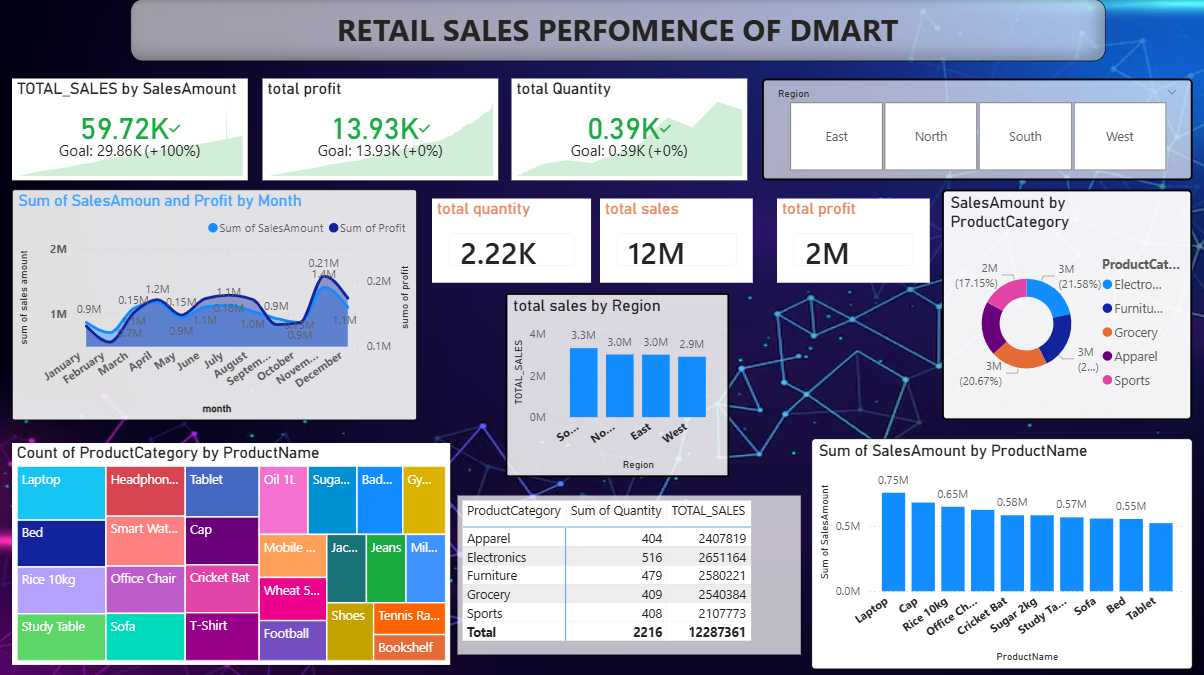

Layout of this report page (visuals, bound fields, positions):
{"tool":"powerbi","page":{"name":"Page 1","canvas":[1280,720],"ordinal":0},"visuals":[{"type":"textbox","box":[141.7,0,1033.7,66.1],"z":0},{"type":"kpi","title":"TOTAL_SALES  by SalesAmount","fields":{"Indicator":["project data Retail_Sales_Performance.TOTAL_SALES"],"TrendLine":["project data Retail_Sales_Performance.SalesAmount"],"Goal":["project data Retail_Sales_Performance.target_of_sales"]},"box":[15.9,84.3,249.7,108.2],"z":1000},{"type":"kpi","title":"total profit","fields":{"Indicator":["project data Retail_Sales_Performance.TOTAL_PROFIT"],"TrendLine":["project data Retail_Sales_Performance.Profit"],"Goal":["project data Retail_Sales_Performance.TOTAL_PROFIT"]},"box":[281.5,84.3,249.7,108.2],"z":2000},{"type":"kpi","title":"total Quantity","fields":{"Indicator":["project data Retail_Sales_Performance.TOTAL_QUANTITY"],"TrendLine":["project data Retail_Sales_Performance.Quantity"],"Goal":["project data Retail_Sales_Performance.TOTAL_QUANTITY"]},"box":[545.6,84.3,249.7,108.2],"z":3000},{"type":"areaChart","title":"Sum of SalesAmoun and Profit by Month","fields":{"Category":["project data Retail_Sales_Performance.OrderDate.Variation.Date Hierarchy.Month"],"Y2":["Sum(project data Retail_Sales_Performance.Profit)"],"Y":["Sum(project data Retail_Sales_Performance.SalesAmount)"]},"box":[15.9,202,429.5,245],"z":4000},{"type":"slicer","fields":{"Values":["project data Retail_Sales_Performance.Region"]},"box":[811.2,84.3,456.5,108.2],"z":5000},{"type":"cardVisual","title":"total sales","fields":{"Data":["project data Retail_Sales_Performance.TOTAL_SALES"]},"box":[639.4,211.6,162.2,89.1],"z":6000},{"type":"cardVisual","title":"total profit","fields":{"Data":["project data Retail_Sales_Performance.TOTAL_PROFIT"]},"box":[827.1,211.6,162.2,89.1],"z":7000},{"type":"cardVisual","title":"total quantity","fields":{"Data":["project data Retail_Sales_Performance.TOTAL_QUANTITY"]},"box":[461.3,211.6,168.6,89.1],"z":8000},{"type":"columnChart","title":"total sales by Region","fields":{"Category":["project data Retail_Sales_Performance.Region"],"Y":["project data Retail_Sales_Performance.TOTAL_SALES"]},"box":[539.2,311.8,237,195.6],"z":9000},{"type":"treemap","fields":{"Group":["project data Retail_Sales_Performance.ProductName"],"Values":["CountNonNull(project data Retail_Sales_Performance.ProductCategory)"]},"box":[15.9,470.8,464.5,235.4],"z":10000},{"type":"columnChart","fields":{"Category":["project data Retail_Sales_Performance.ProductName"],"Y":["Sum(project data Retail_Sales_Performance.SalesAmount)"]},"box":[863.7,466,404,245],"z":11000},{"type":"pivotTable","fields":{"Rows":["project data Retail_Sales_Performance.ProductCategory"],"Values":["Sum(project data Retail_Sales_Performance.Quantity)","project data Retail_Sales_Performance.TOTAL_SALES"]},"box":[488.3,526.5,364.2,168.6],"z":12000},{"type":"donutChart","title":"SalesAmount by ProductCategory","fields":{"Y":["Sum(project data Retail_Sales_Performance.SalesAmount)"],"Category":["project data Retail_Sales_Performance.ProductCategory"]},"box":[1002.1,202,265.6,245],"z":13000}]}

Visuals, with their boxes in screenshot pixels (x1, y1, x2, y2), scaled from the page's 1280x720 canvas onto the 1204x675 screenshot:
textbox: bbox=(133, 0, 1106, 62)
"TOTAL_SALES  by SalesAmount" kpi: bbox=(15, 79, 250, 180)
"total profit" kpi: bbox=(265, 79, 500, 180)
"total Quantity" kpi: bbox=(513, 79, 748, 180)
"Sum of SalesAmoun and Profit by Month" areaChart: bbox=(15, 189, 419, 419)
slicer - project data Retail_Sales_Performance.Region: bbox=(763, 79, 1192, 180)
"total sales" cardVisual: bbox=(601, 198, 754, 282)
"total profit" cardVisual: bbox=(778, 198, 931, 282)
"total quantity" cardVisual: bbox=(434, 198, 592, 282)
"total sales by Region" columnChart: bbox=(507, 292, 730, 476)
treemap - project data Retail_Sales_Performance.ProductName x CountNonNull(project data Retail_Sales_Performance.ProductCategory): bbox=(15, 441, 452, 662)
columnChart - project data Retail_Sales_Performance.ProductName x Sum(project data Retail_Sales_Performance.SalesAmount): bbox=(812, 437, 1192, 667)
pivotTable - project data Retail_Sales_Performance.ProductCategory x Sum(project data Retail_Sales_Performance.Quantity): bbox=(459, 494, 802, 652)
"SalesAmount by ProductCategory" donutChart: bbox=(943, 189, 1192, 419)
